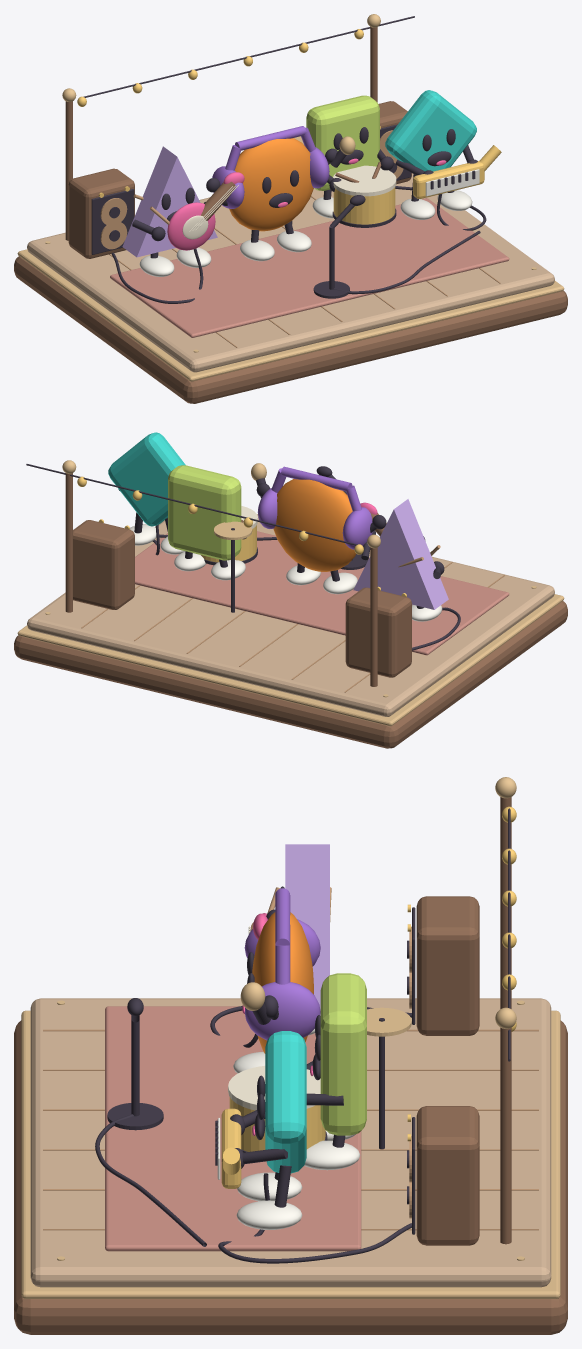
Rendered from Guess-Whose-Song.glb.
3 renders of one model, top to bottom at view 1: azimuth 30°, elevation 25°; view 2: azimuth 150°, elevation 25°; view 3: azimuth 270°, elevation 25°, orthographic. The views are drawn at different scales.
Visible parts, largest first — view 1: stage boards, soft woven rug, floating wooden stage, orange singer, gold stage edge, teal keyboardist, green drummer, lavender guitarist, amp cabinet, drum shell, drum top, guitar body (+21 smaller); view 2: stage boards, floating wooden stage, soft woven rug, orange singer, green drummer, gold stage edge, amp cabinet.001, lavender guitarist, amp cabinet, teal keyboardist, light support, light support.001 (+9 smaller); view 3: stage boards, soft woven rug, floating wooden stage, gold stage edge, amp cabinet, amp cabinet.001, green drummer, teal keyboardist, lavender guitarist, orange singer, ear cup.001, light support.001 (+14 smaller).
Boxes of the visible parts, x1,y1,x2,y2 form: stage boards: (27, 173, 554, 372); soft woven rug: (110, 198, 509, 337); floating wooden stage: (14, 256, 567, 403); orange singer: (229, 138, 313, 231); gold stage edge: (17, 249, 564, 381); teal keyboardist: (385, 90, 476, 171); green drummer: (306, 95, 379, 190); lavender guitarist: (122, 146, 217, 257); amp cabinet: (68, 168, 134, 258); drum shell: (333, 187, 395, 224); drum top: (333, 165, 396, 196); guitar body: (167, 202, 215, 250); stage boards: (27, 514, 554, 716); floating wooden stage: (14, 601, 567, 748); soft woven rug: (135, 531, 509, 655); orange singer: (273, 479, 355, 571); green drummer: (168, 465, 241, 560); gold stage edge: (17, 594, 564, 726); amp cabinet.001: (73, 520, 134, 609); lavender guitarist: (353, 499, 448, 609); amp cabinet: (345, 587, 411, 677); teal keyboardist: (108, 432, 185, 526); light support: (370, 547, 377, 686); light support.001: (65, 473, 72, 612); stage boards: (30, 998, 551, 1287); soft woven rug: (105, 1006, 361, 1251); floating wooden stage: (14, 1020, 567, 1334); gold stage edge: (21, 1010, 560, 1298); amp cabinet: (416, 896, 479, 1035); amp cabinet.001: (416, 1106, 479, 1245); green drummer: (320, 973, 366, 1135); teal keyboardist: (265, 1031, 306, 1173); lavender guitarist: (285, 844, 329, 1015); orange singer: (252, 912, 313, 1053); ear cup.001: (244, 982, 320, 1040); light support.001: (500, 1027, 511, 1244).
Size of the model in its own units: 4.17 by 2.01 by 3.35.
